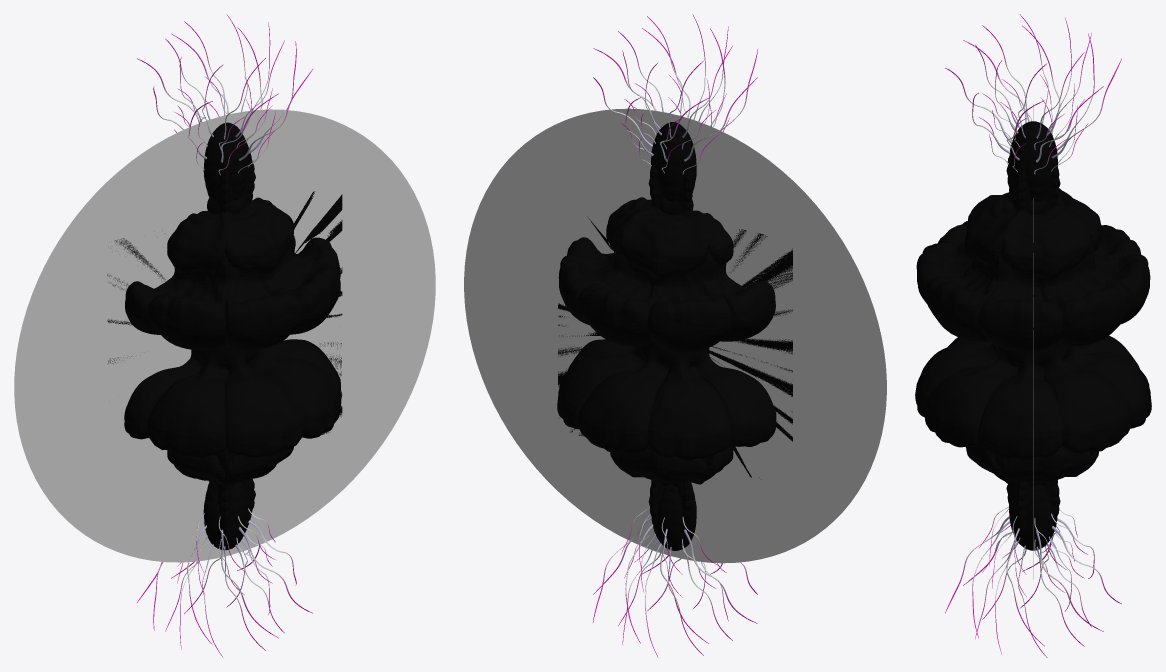
Rendered from STA_25.fbx.
3 renders of one model, left to right at view 1: azimuth 30°, elevation 25°; view 2: azimuth 150°, elevation 25°; view 3: azimuth 270°, elevation 25°, orthographic.
Parts seen in each view (by area): view 1: STA_25; view 2: STA_25; view 3: STA_25.
Boxes of the visible parts, box(x1,y1,x2,y2) form: STA_25: box(14, 14, 435, 657); STA_25: box(464, 14, 886, 657); STA_25: box(915, 14, 1151, 657).
Bounding box in the file's own units: 50779 × 68310 × 24649.
